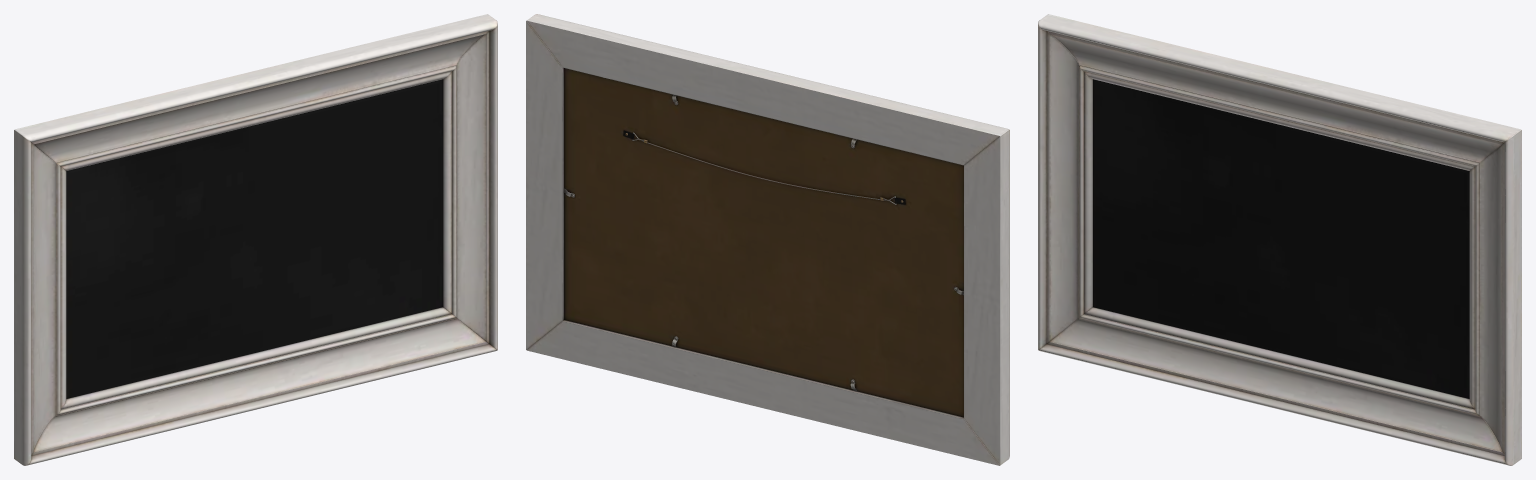
The model's file is hanging_picture_frame_02.glb.
3 renders of one model, left to right at view 1: azimuth 30°, elevation 25°; view 2: azimuth 150°, elevation 25°; view 3: azimuth 330°, elevation 25°, orthographic.
Parts seen in each view (by area): view 1: hanging_picture_frame_02; view 2: hanging_picture_frame_02; view 3: hanging_picture_frame_02.
Part boxes in pixels (bbox=[...]): hanging_picture_frame_02: bbox=[14, 14, 497, 465]; hanging_picture_frame_02: bbox=[526, 14, 1009, 465]; hanging_picture_frame_02: bbox=[1038, 14, 1521, 465].
Bounding box in the file's own units: 0.7518 × 0.5 × 0.033.
Materials: 3 (3 with a texture image).
